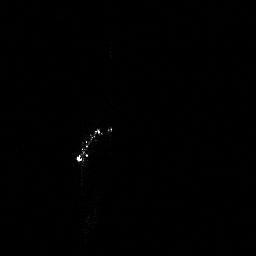ship: (75, 125, 115, 166)
